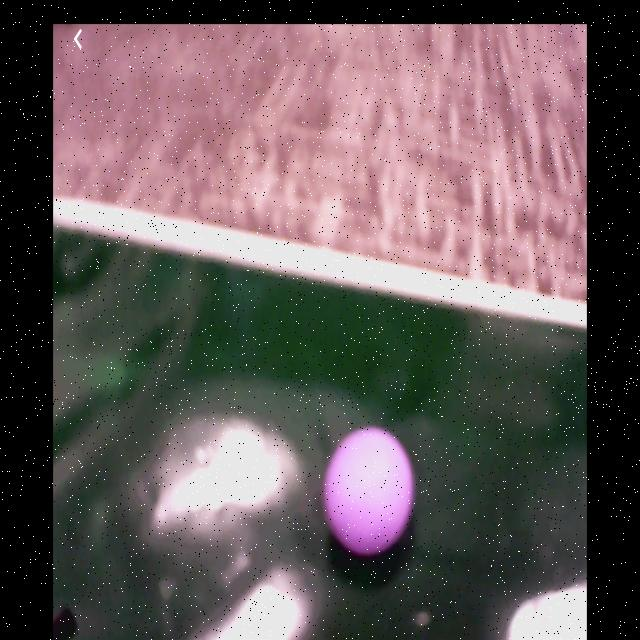ball: (324, 427, 417, 560)
